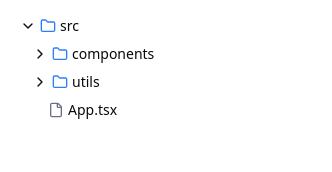
Test case: Add File to Folder via Context Menu › does not show "Add File" option when right-clicking on a file
Find and right-click on a file
Right-click the list item with test id "file-App.tsx" at (83, 110), box [48,100,117,119]
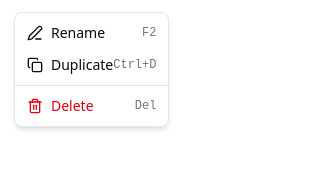
expect the menu item with test id "context-menu-rename" is shown: met, box [27,23,156,42]
